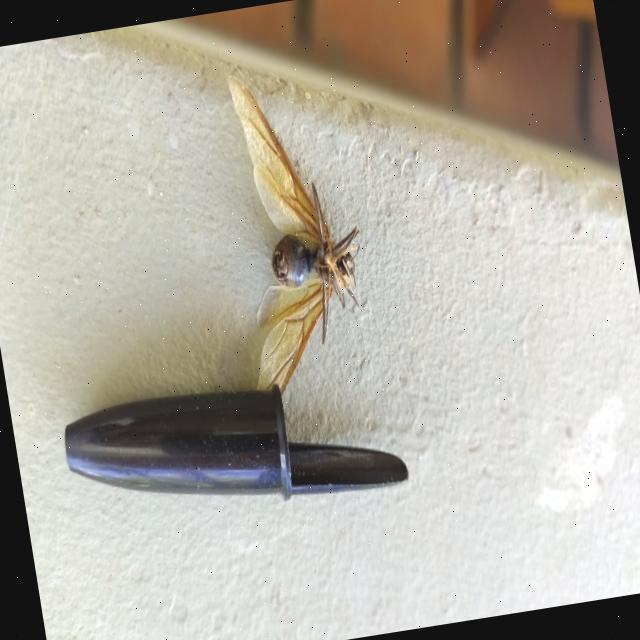Dead-Male-Alate: (201, 57, 388, 421)
